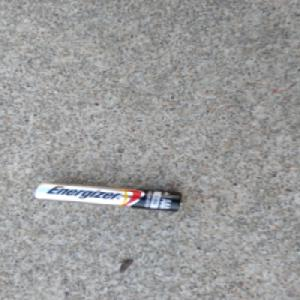Battery: (30, 181, 185, 213)
